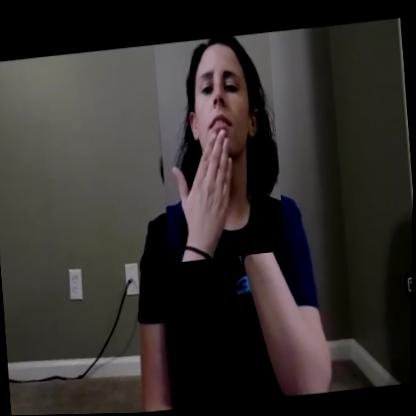ThankYou: (151, 31, 288, 264)
